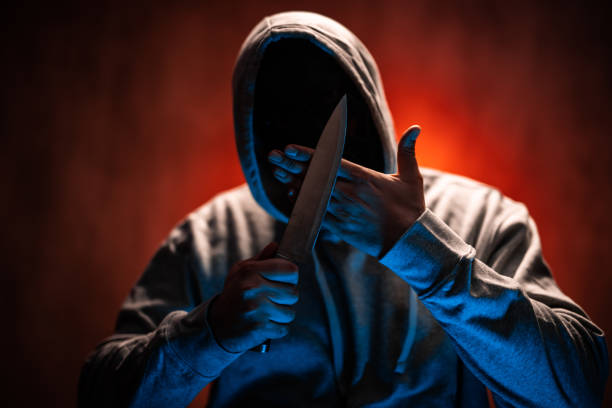knife: (248, 94, 349, 358)
